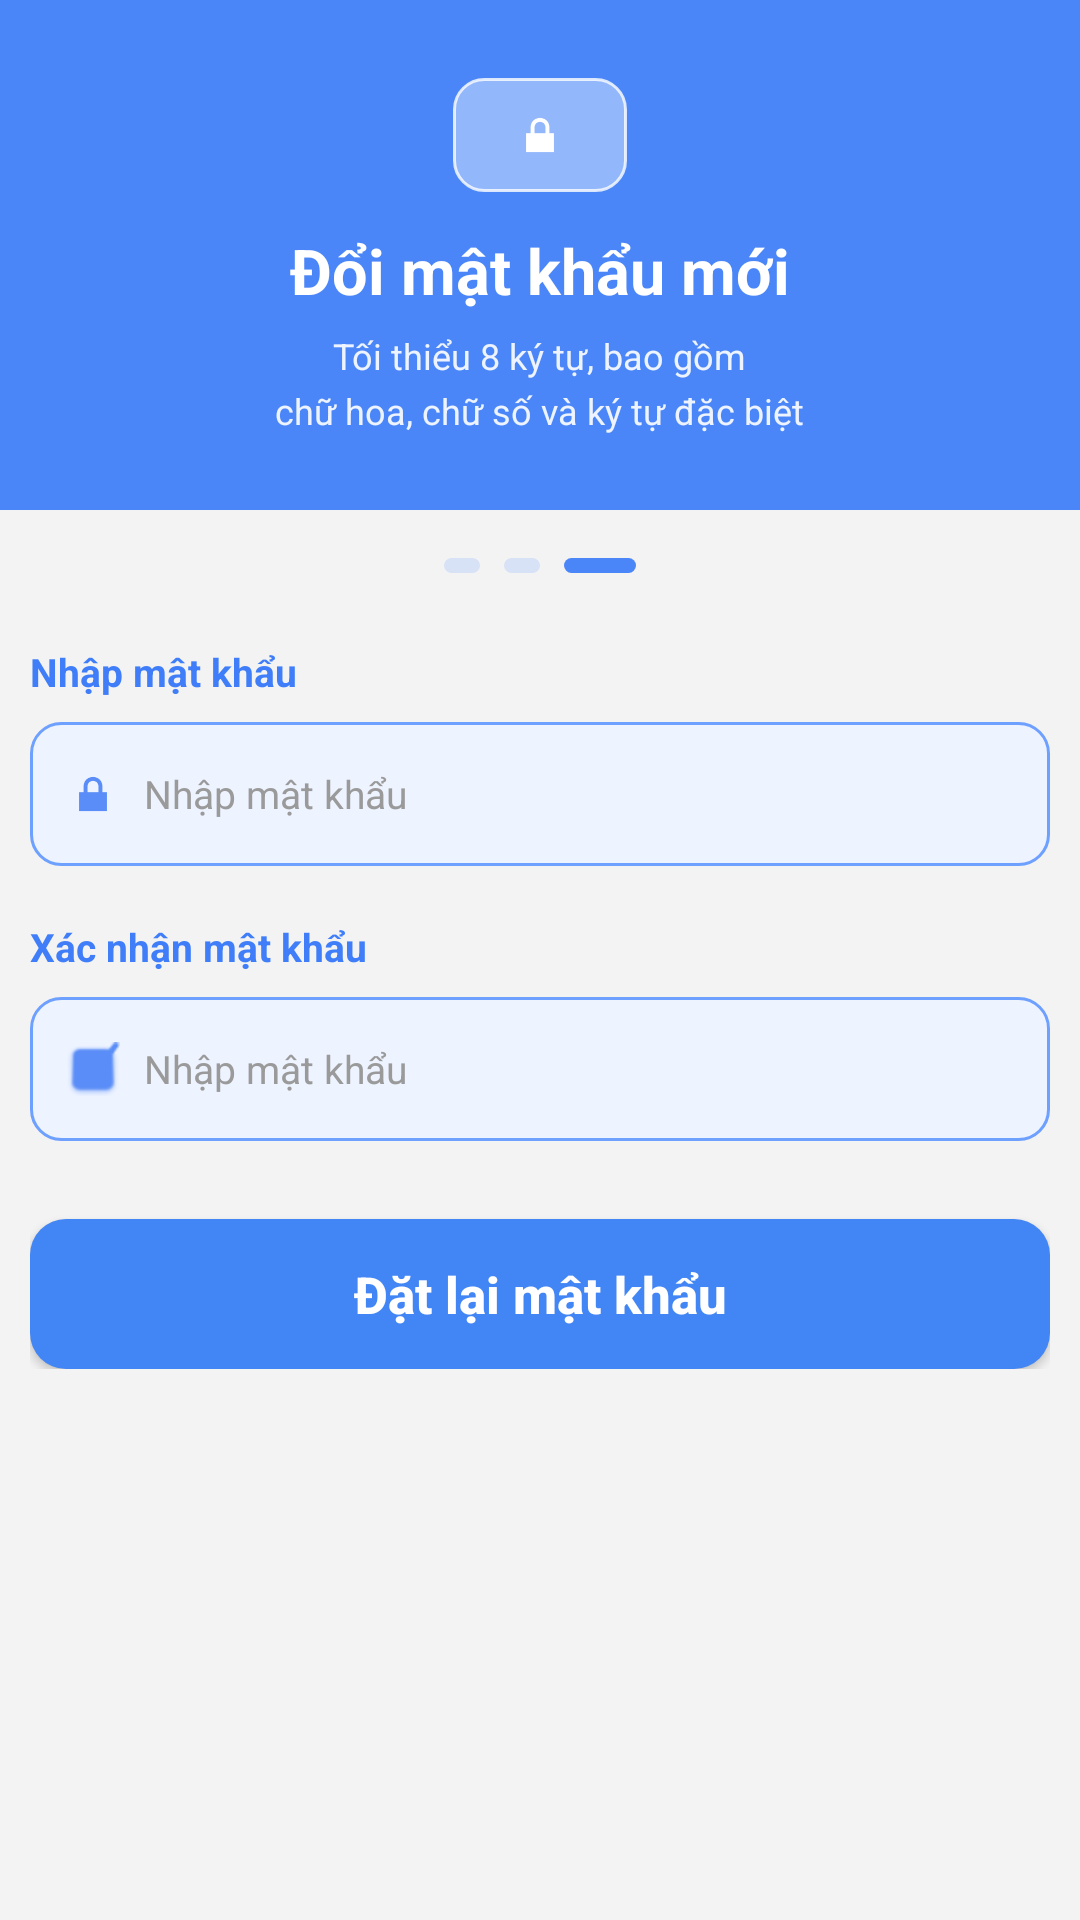

Screen size 1080w x 1920h. Icon name, then its box in pixels as (left=x1, top=y1, right=x2, bottom=y2):
lock: (left=526, top=118, right=554, bottom=152), (left=79, top=777, right=107, bottom=811)
